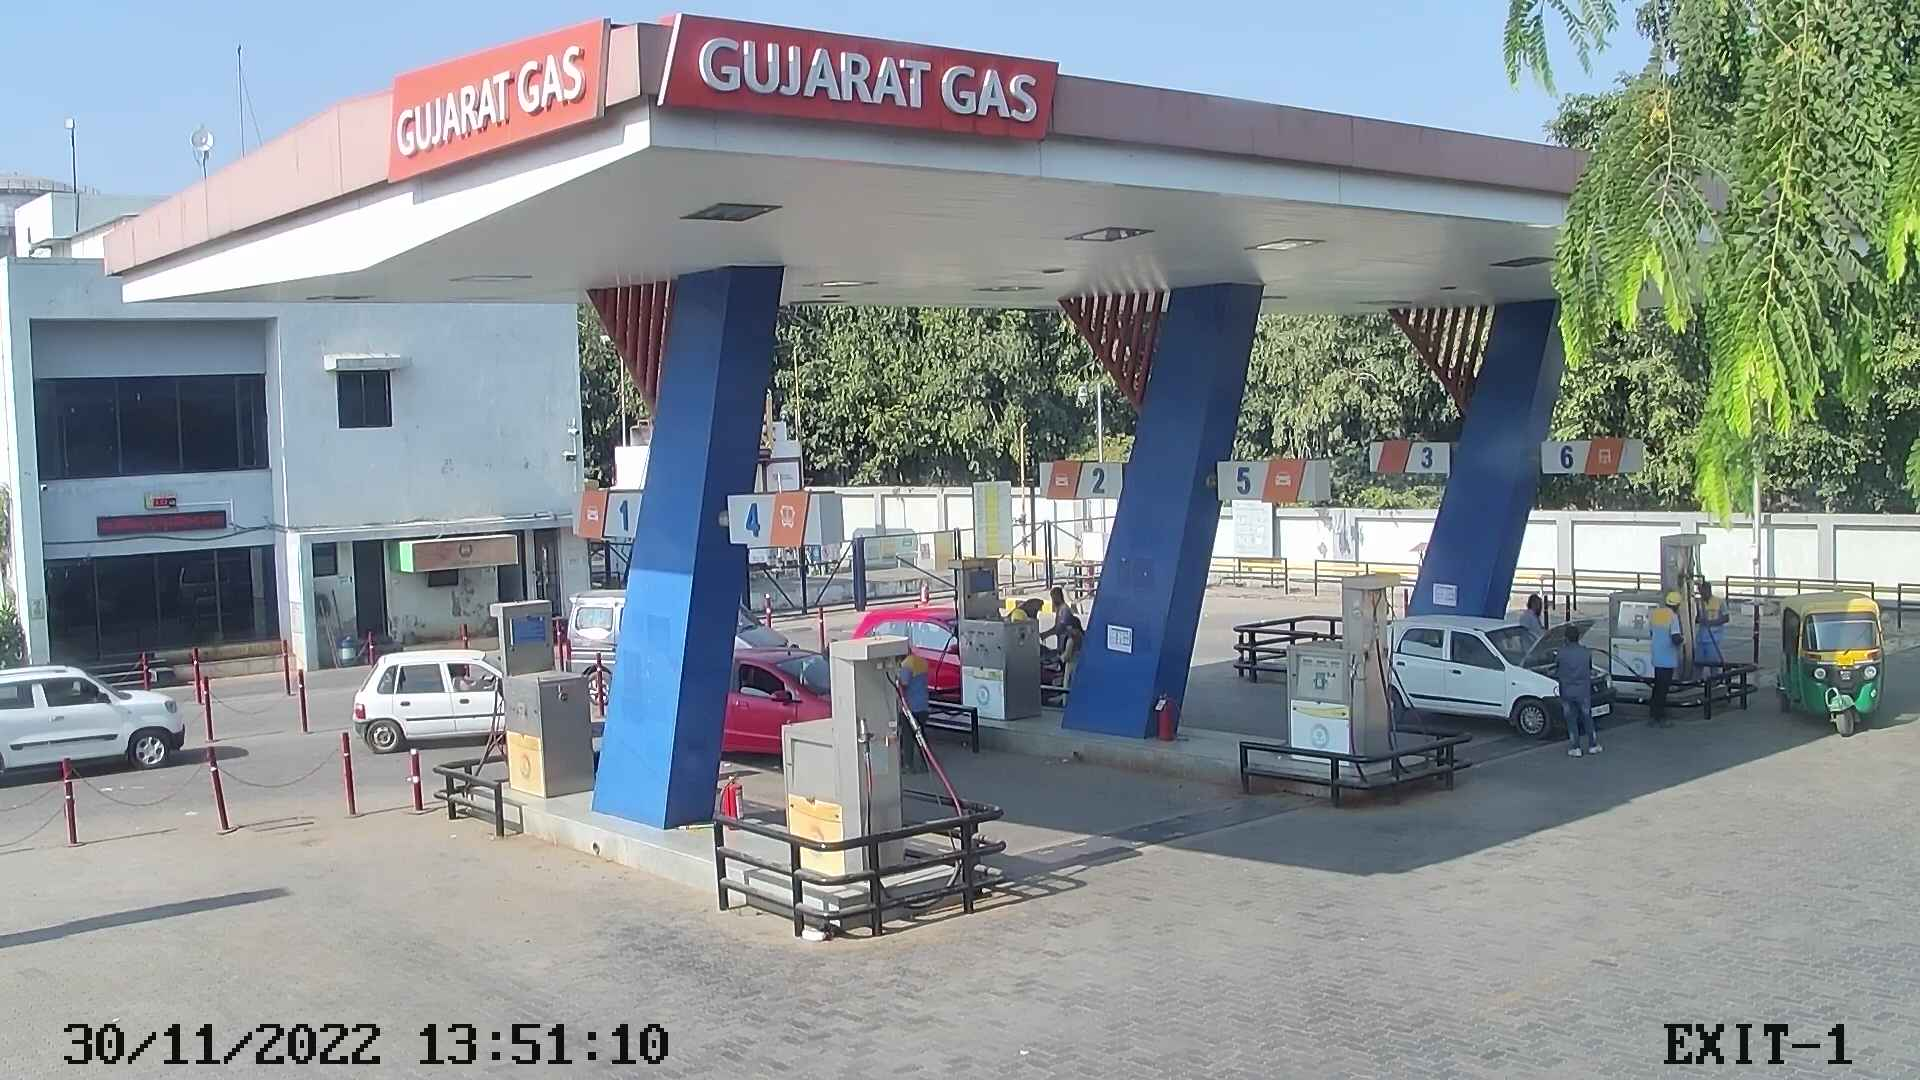Auto: (1758, 579, 1902, 752)
Car: (1373, 605, 1621, 746), (0, 653, 196, 794), (343, 640, 512, 760), (841, 593, 971, 720), (713, 638, 833, 771), (551, 582, 633, 720)
Others: (1634, 582, 1693, 727), (898, 632, 938, 785), (1687, 572, 1731, 669)
